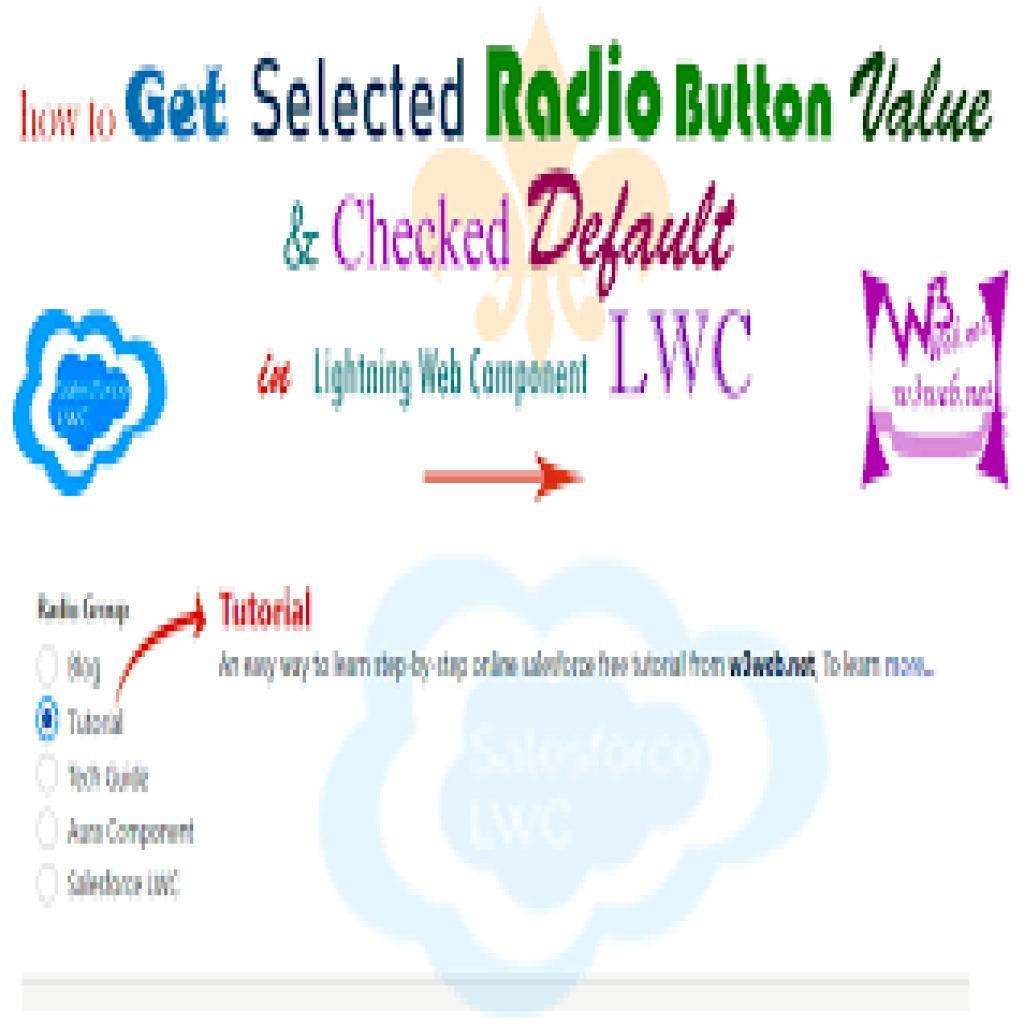radio: (27, 851, 63, 913), (30, 740, 64, 801), (31, 687, 65, 747), (31, 800, 62, 854), (34, 639, 64, 693)
